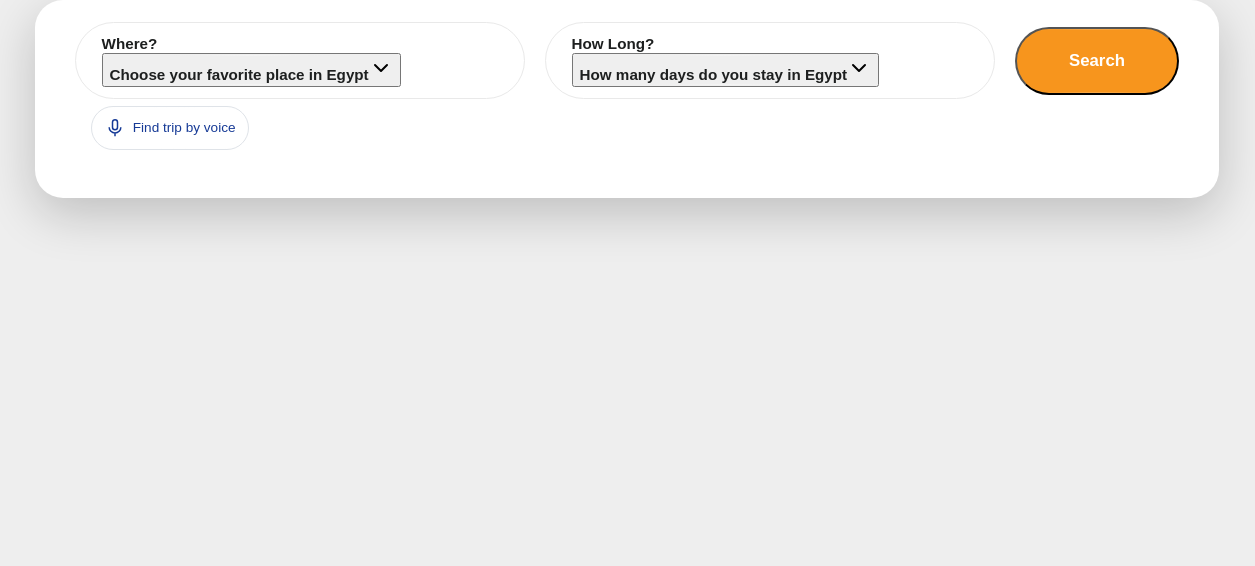
Test: Smart Voice integrates with the existing Find Trip › partial taxonomy failure degrades by capability ([{"slug":"nile-cruises","title":"Live cruise label"}])
Click the button "Find trip by voice". click: [170, 128]
box: [91,106,249,150]
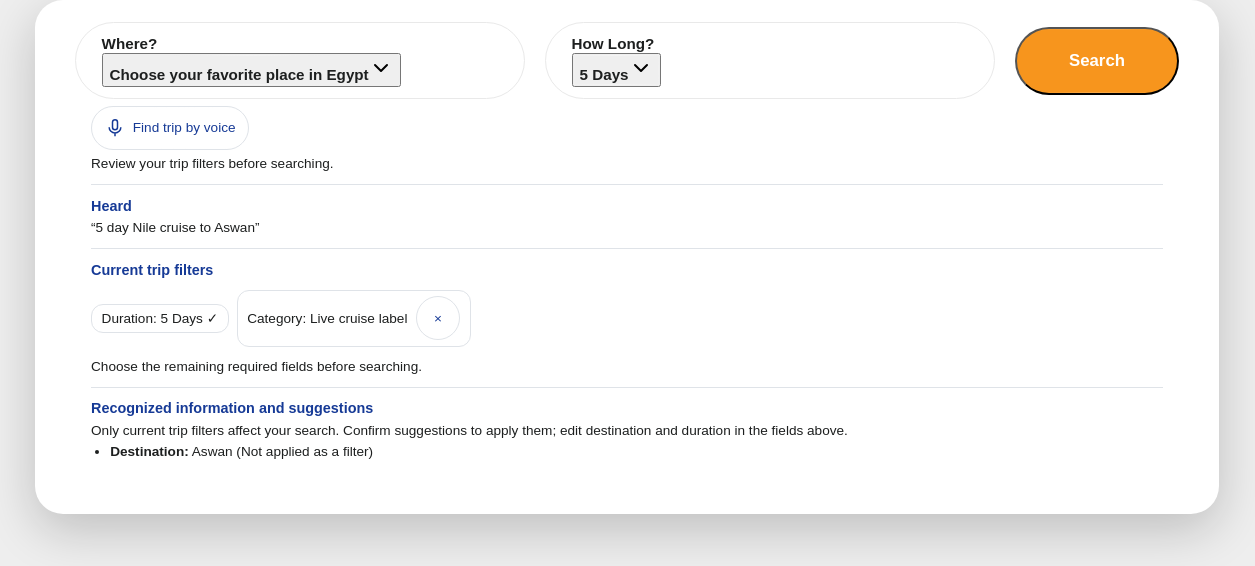
Check: the label named "duration" holds "5", box [545,22,995,99]
Check: the element "Heard" is shown, box [91,184,1163,235]
Check: the text "Review your trip filters before searching." is shown, box [91,156,334,171]
